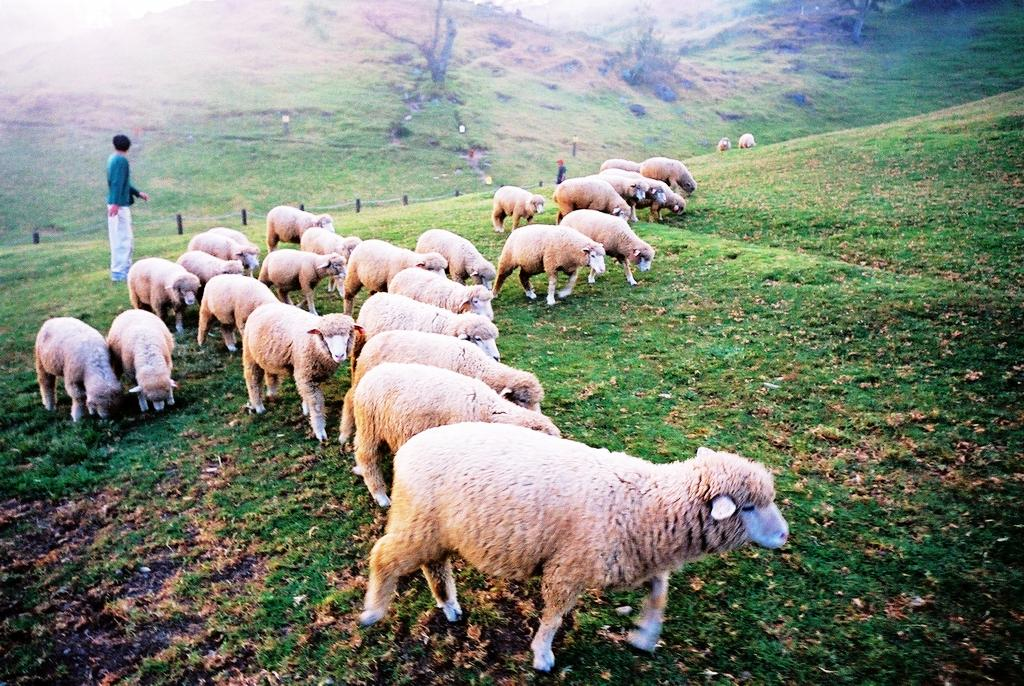Owl: (367, 408, 792, 686), (343, 361, 567, 460), (347, 329, 546, 413), (240, 295, 350, 439), (358, 291, 505, 367), (32, 315, 121, 424), (490, 223, 606, 304), (193, 271, 285, 355), (559, 209, 654, 286), (108, 309, 176, 415), (259, 247, 347, 318), (345, 236, 444, 298), (390, 268, 494, 324), (126, 255, 201, 331), (414, 229, 497, 292), (599, 167, 686, 219), (551, 176, 630, 229), (262, 204, 339, 254), (600, 172, 667, 218), (582, 177, 650, 221), (205, 224, 260, 274), (491, 185, 545, 235), (299, 228, 363, 268), (638, 156, 697, 197), (186, 231, 253, 264), (597, 156, 651, 178), (739, 132, 757, 150), (717, 136, 732, 153)
